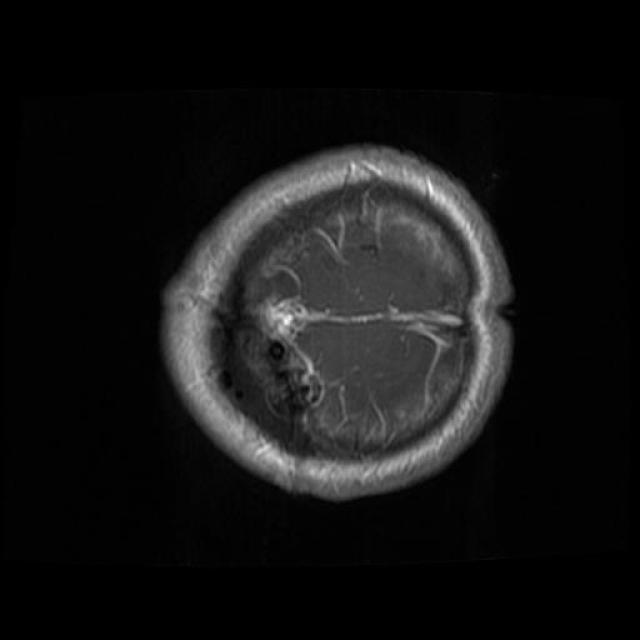Glioma: (234, 296, 329, 417)
